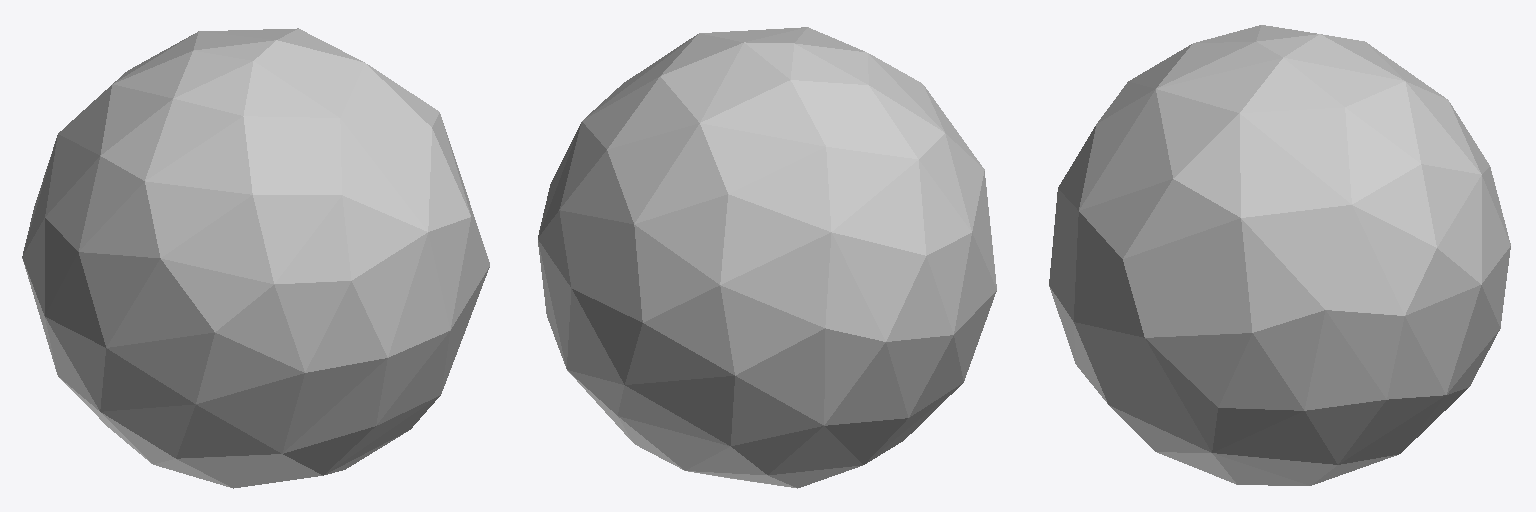
Rendered from bullet_MID.obj.
3 views of the same model, side by side, from view 1: azimuth 30°, elevation 25°; view 2: azimuth 150°, elevation 25°; view 3: azimuth 270°, elevation 25° (orthographic).
Parts seen in each view (by area): view 1: Sphere; view 2: Sphere; view 3: Sphere.
Boxes of the visible parts, box(x1,y1,x2,y2) form: Sphere: box(22, 28, 489, 488); Sphere: box(538, 27, 996, 488); Sphere: box(1049, 25, 1510, 485).
Bounding box in the file's own units: 0.4685 × 0.4718 × 0.4722.